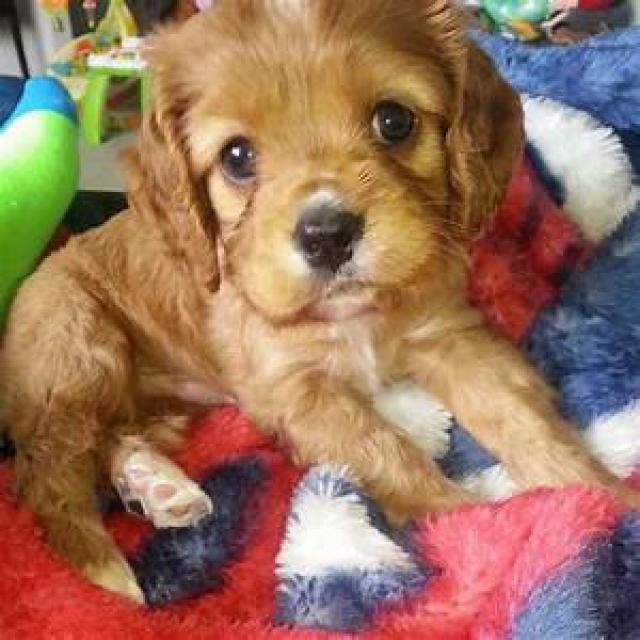dog: (0, 0, 640, 610)
